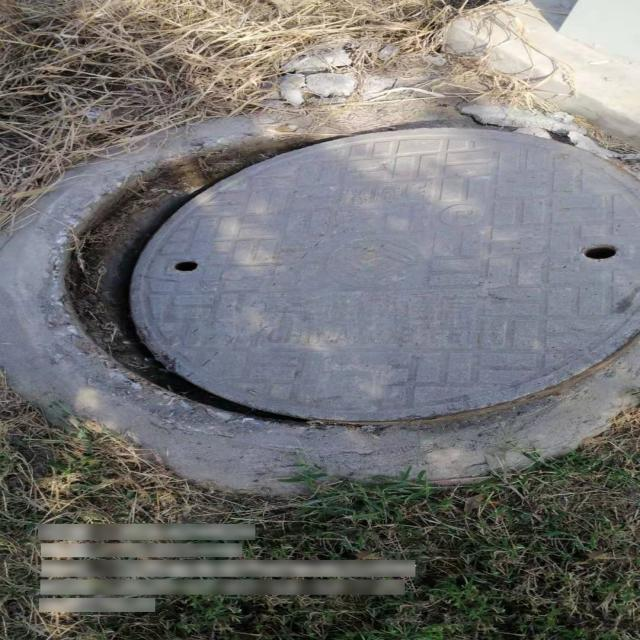Faulty: (43, 121, 637, 444)
